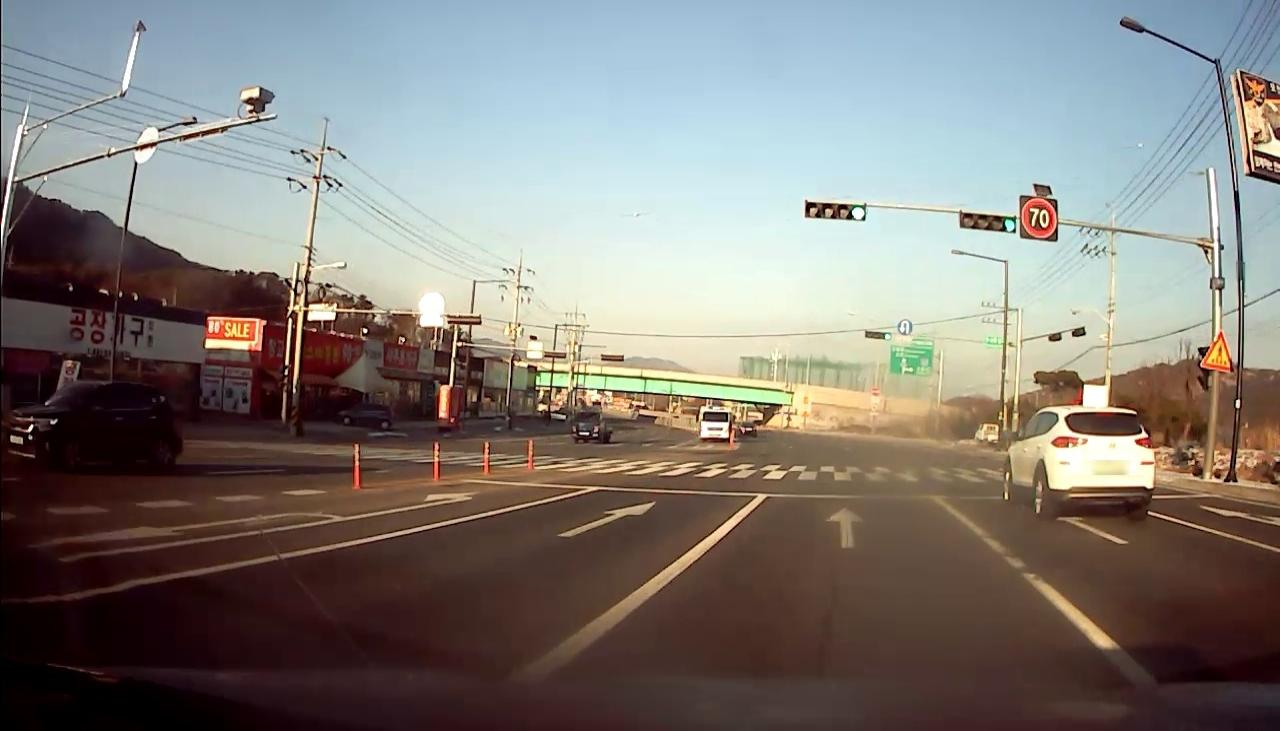Green Light: (849, 202, 868, 223), (1001, 215, 1018, 233), (882, 330, 892, 342)
